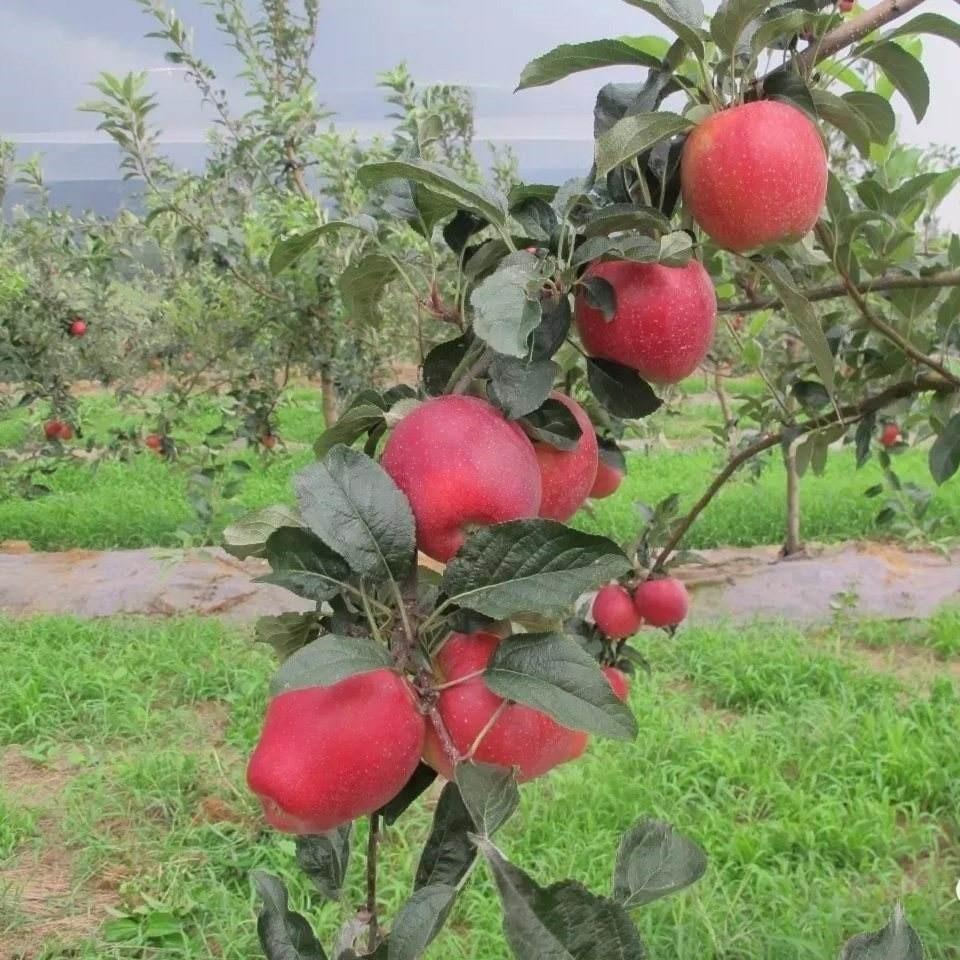apple: (245, 643, 419, 831), (383, 392, 542, 564), (423, 631, 589, 784), (677, 102, 826, 247), (574, 250, 715, 385), (516, 389, 596, 530), (592, 585, 642, 638), (636, 579, 689, 628)
